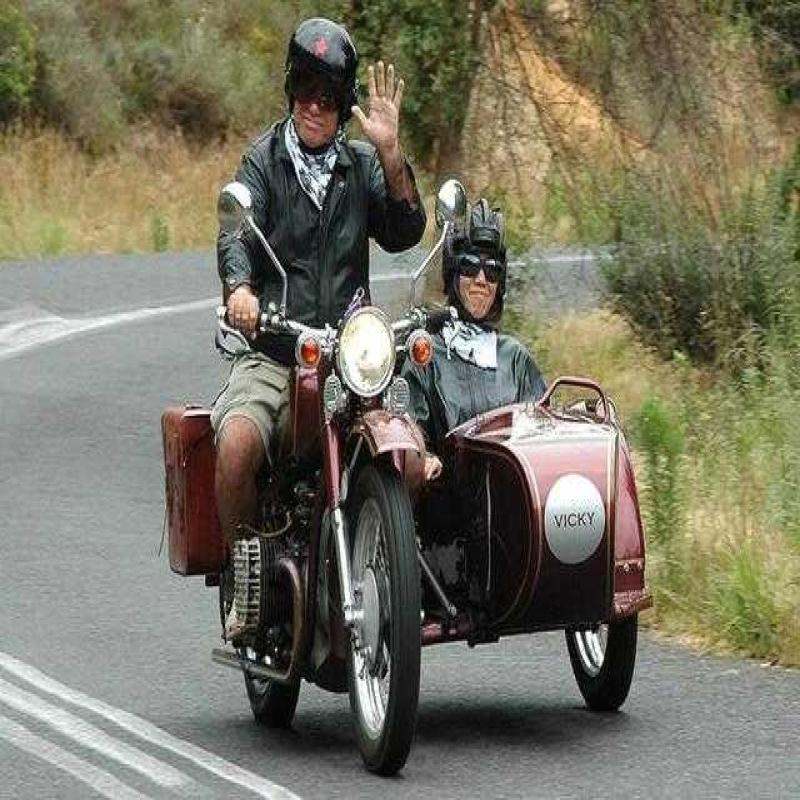bike: (166, 292, 635, 732)
